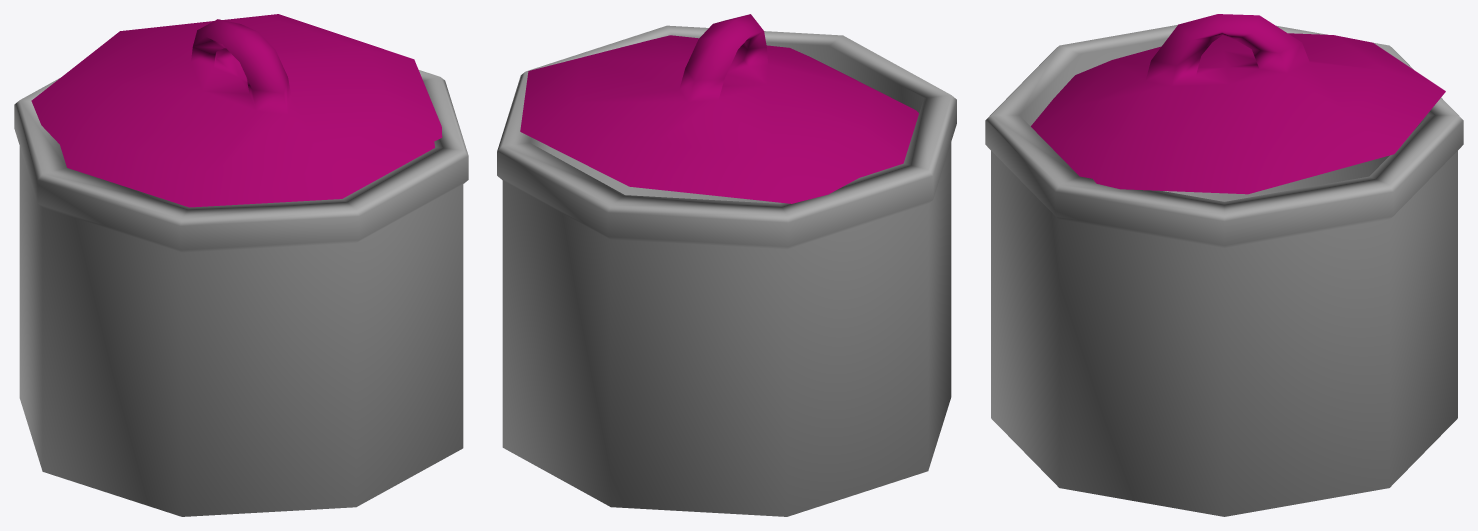
File: pot.fbx
3 views of the same model, side by side, from view 1: azimuth 30°, elevation 25°; view 2: azimuth 150°, elevation 25°; view 3: azimuth 270°, elevation 25° (orthographic).
Visible parts, largest first — view 1: polySurface1, polySurface2; view 2: polySurface1, polySurface2; view 3: polySurface1, polySurface2.
Part boxes in pixels (bbox=[...]): polySurface1: bbox=[14, 70, 468, 516]; polySurface2: bbox=[31, 14, 442, 207]; polySurface1: bbox=[497, 25, 956, 516]; polySurface2: bbox=[520, 14, 918, 203]; polySurface1: bbox=[985, 25, 1463, 516]; polySurface2: bbox=[1031, 14, 1445, 194].
Bounding box in the file's own units: 1.32 × 1.22 × 1.32.
